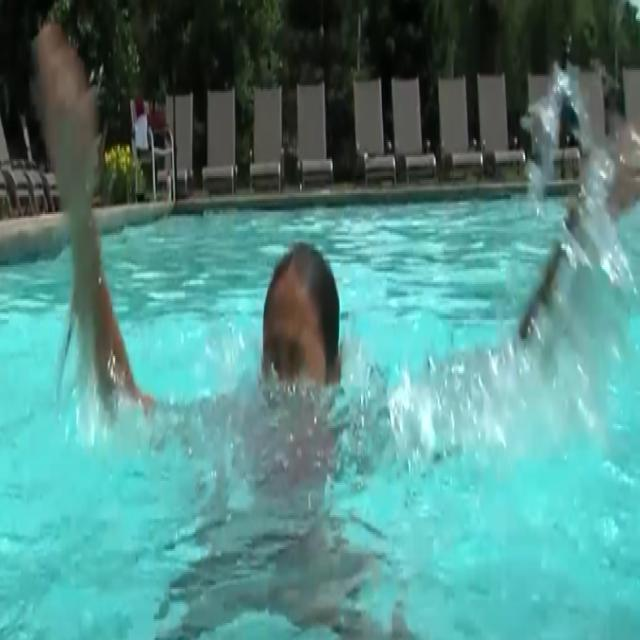Drowning: (15, 1, 640, 616)
